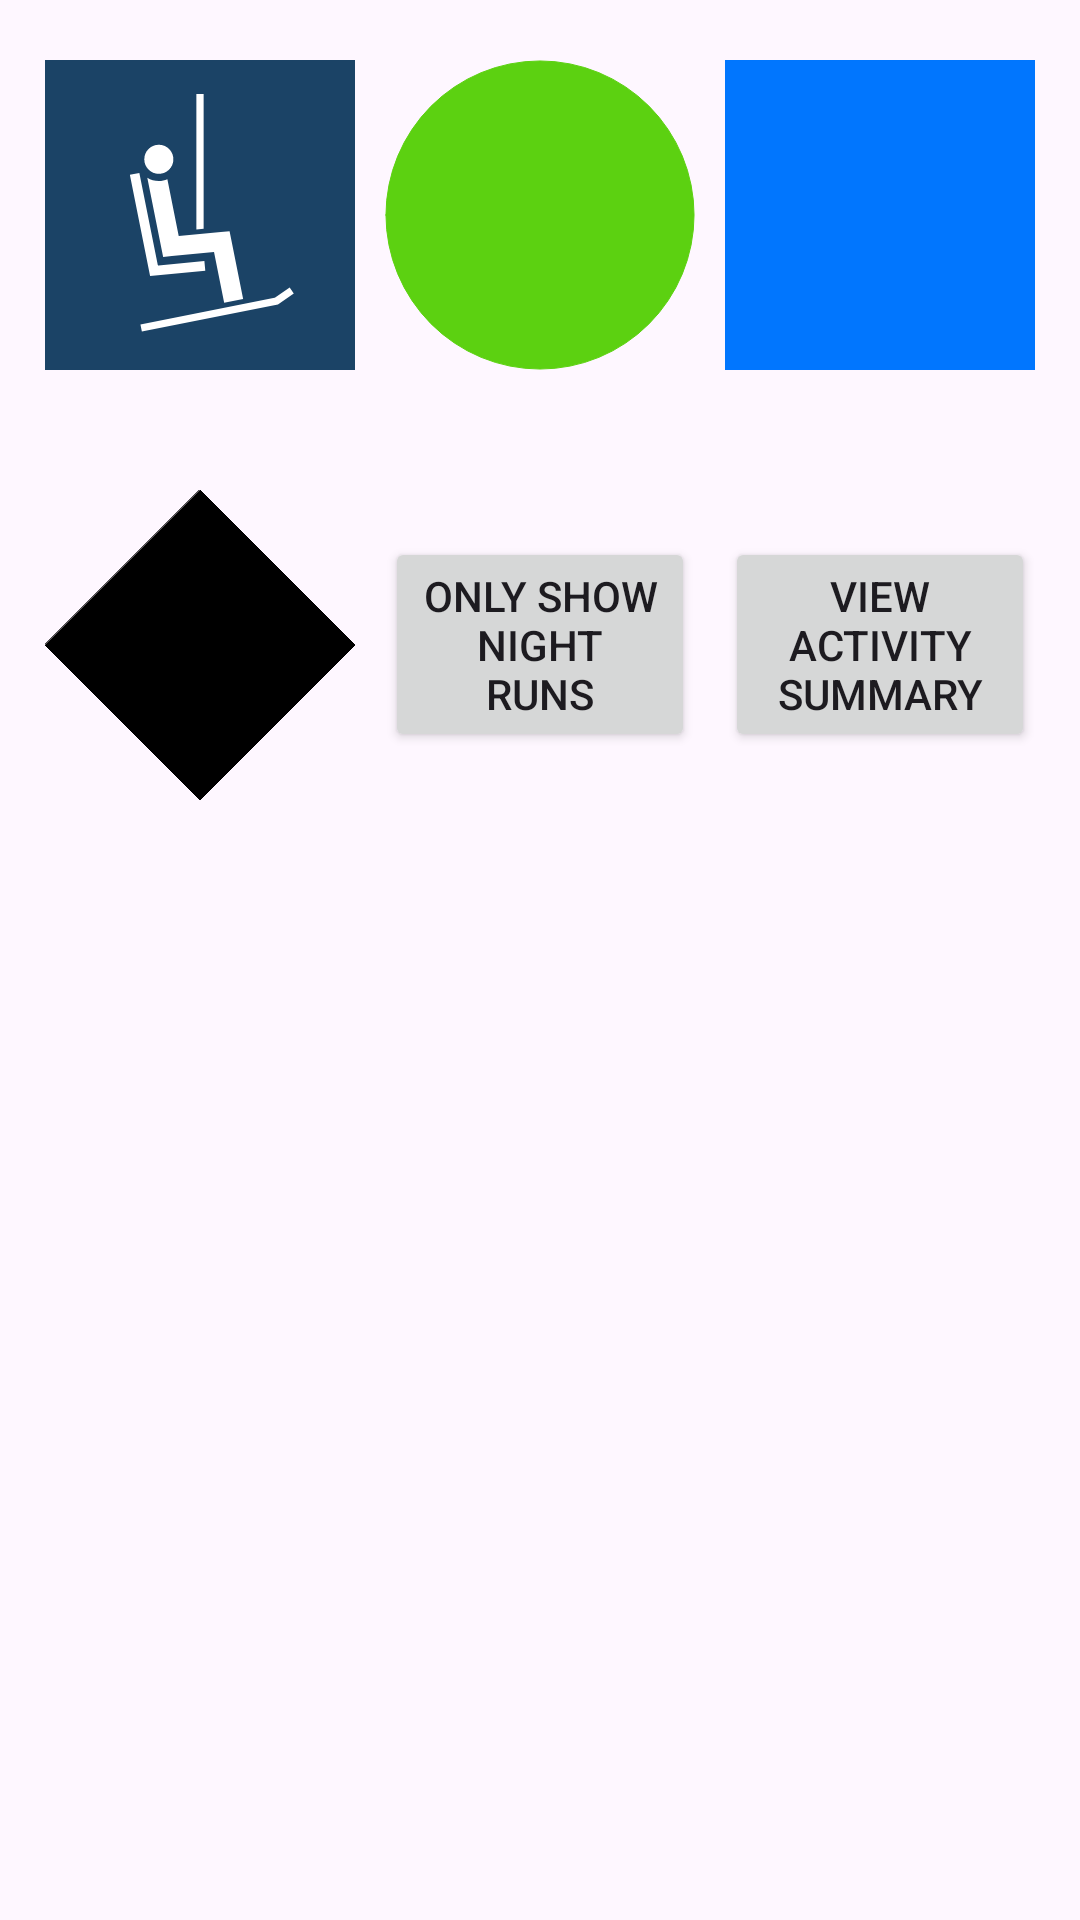

Named icons in this screenshot (1080x1920) and their centers, (x,y):
chairlift: (200,215)
